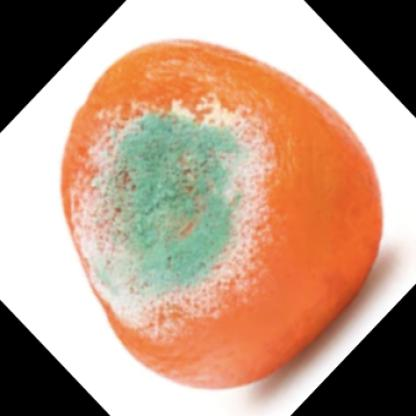rotten: (64, 39, 384, 391)
